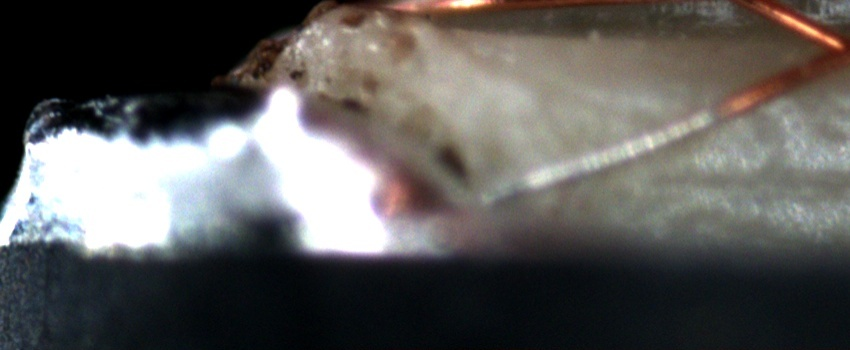CL: (216, 27, 350, 146)
DL: (634, 148, 850, 207)
TS: (481, 105, 716, 203)
